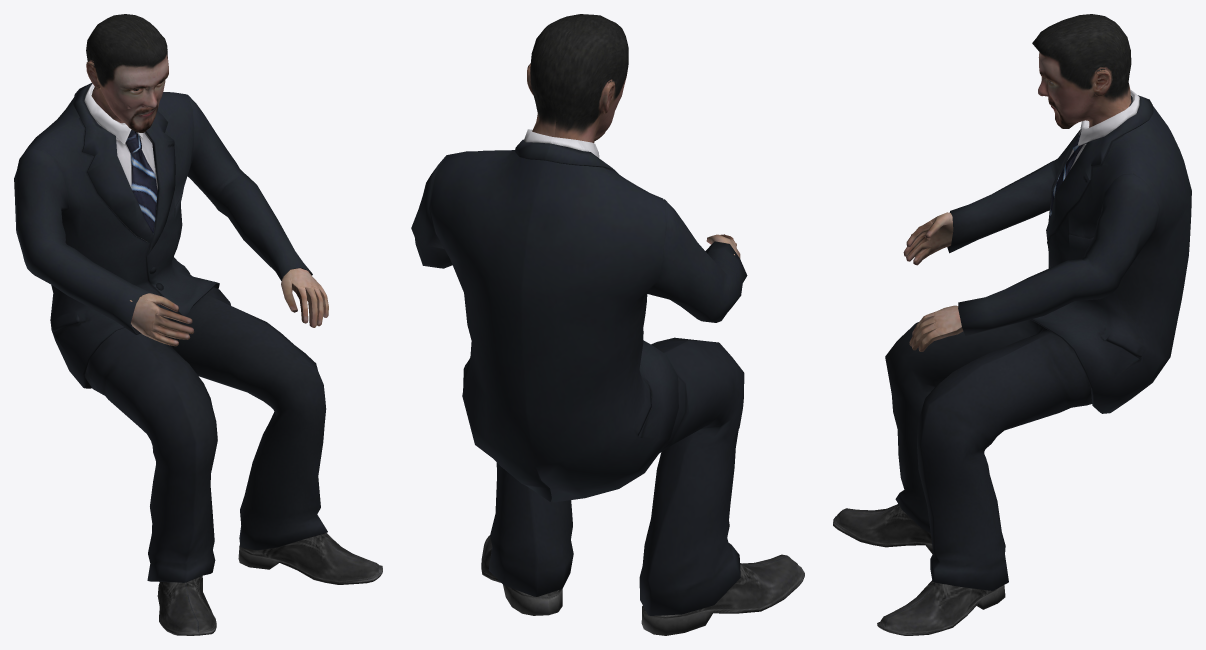
Rendered from 3DGJ_pj01_qyp.FBX.
The picture shows the model from 3 angles, left to right: view 1: azimuth 30°, elevation 25°; view 2: azimuth 150°, elevation 25°; view 3: azimuth 270°, elevation 25°; orthographic projection. The views are drawn at different scales.
Visible parts, largest first — view 1: 3DGJ_pj01_qyp; view 2: 3DGJ_pj01_qyp; view 3: 3DGJ_pj01_qyp.
Boxes of the visible parts, x1,y1,x2,y2 form: 3DGJ_pj01_qyp: [14, 14, 382, 635]; 3DGJ_pj01_qyp: [411, 14, 804, 635]; 3DGJ_pj01_qyp: [833, 14, 1191, 635].
Bounding box in the file's own units: 0.7707 × 1.42 × 0.8561.
